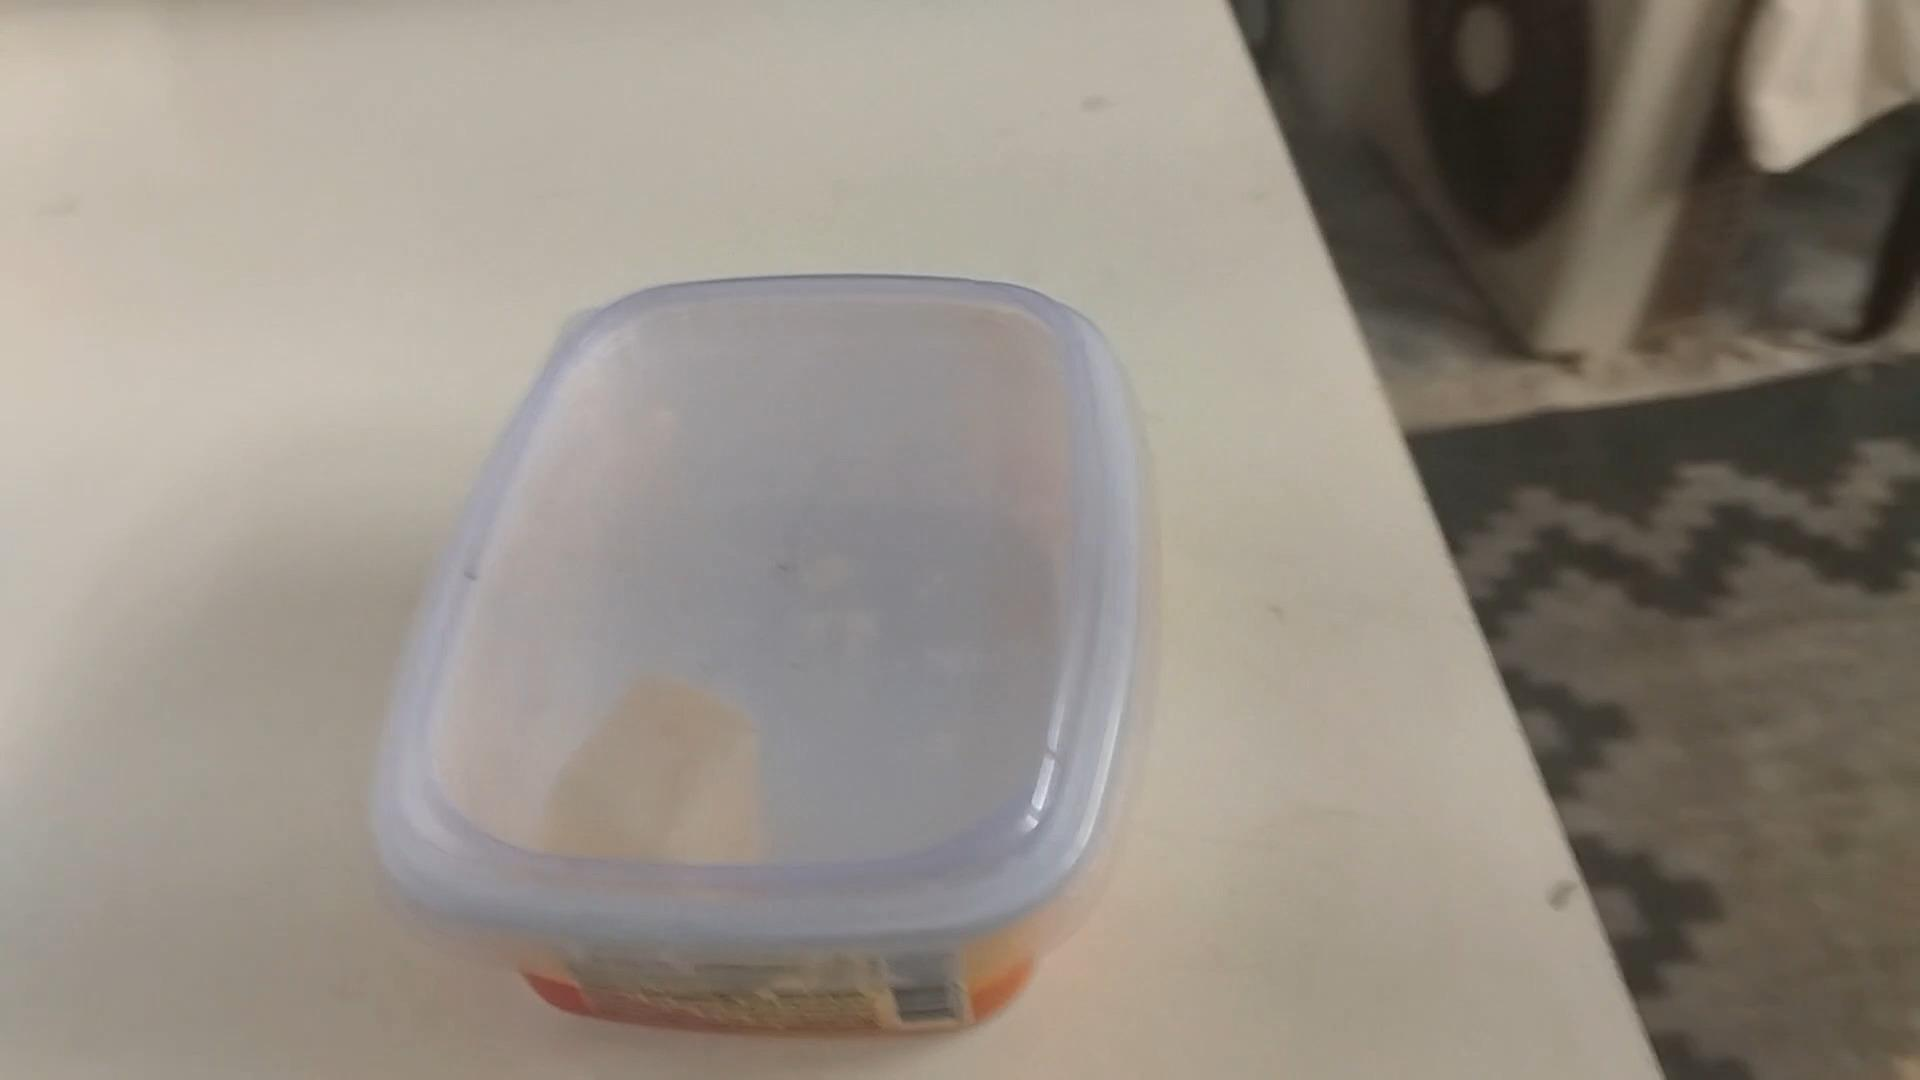butter: (372, 277, 1139, 1036)
